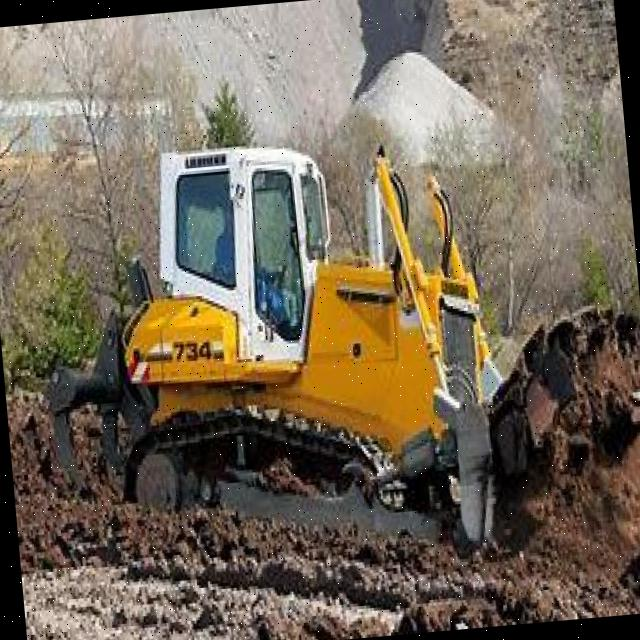Bulldozer: (18, 102, 582, 609)
